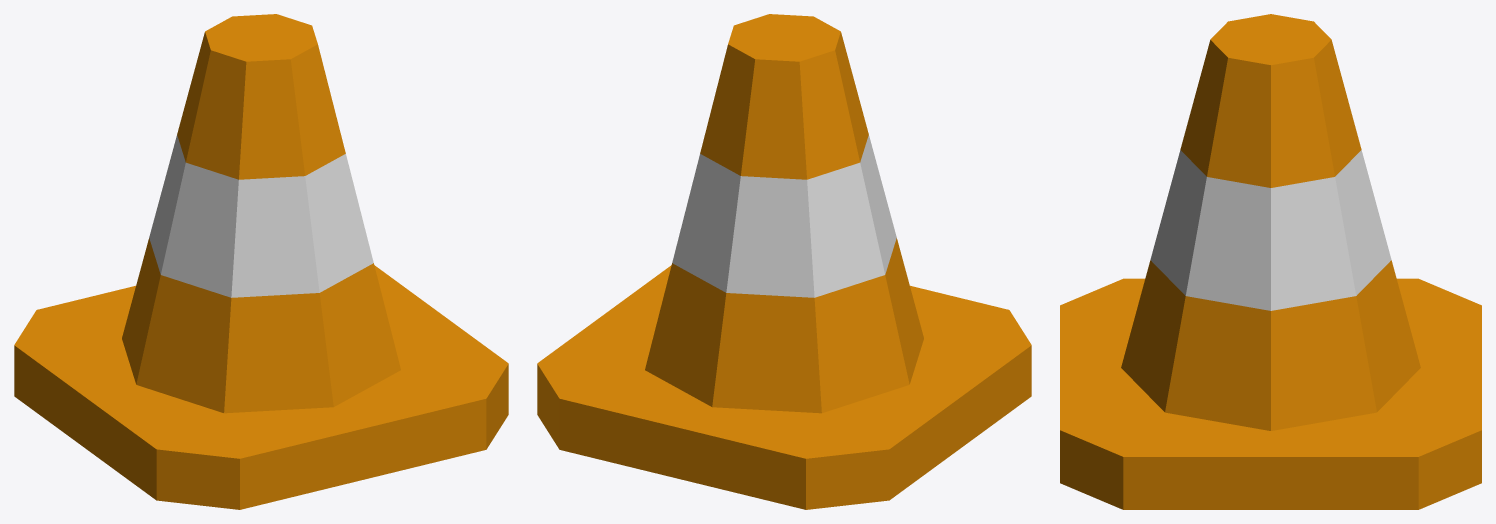
3 views of the same model, side by side, from view 1: azimuth 30°, elevation 25°; view 2: azimuth 150°, elevation 25°; view 3: azimuth 270°, elevation 25° (orthographic). The views are drawn at different scales.
Parts seen in each view (by area): view 1: Cone; view 2: Cone; view 3: Cone.
Part boxes in pixels (left/top/right/bottom): Cone: left=14, top=14, right=508, bottom=509; Cone: left=537, top=14, right=1031, bottom=509; Cone: left=1060, top=14, right=1481, bottom=509.
Size of the model in its own units: 14.65 by 14.61 by 14.65.
